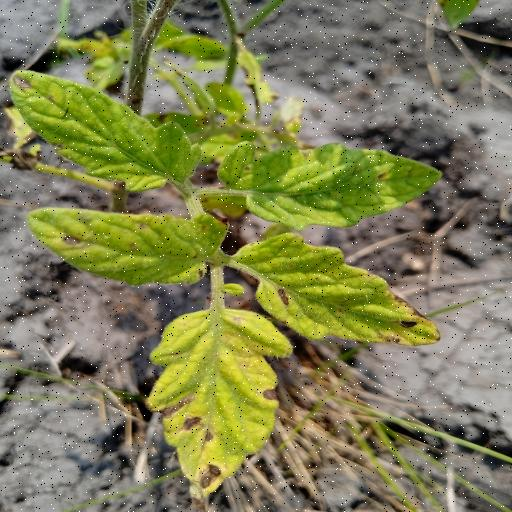Tomato_Brown_Spots: (227, 230, 442, 354), (146, 300, 276, 500), (7, 63, 191, 192), (220, 142, 444, 230), (25, 200, 237, 284)
